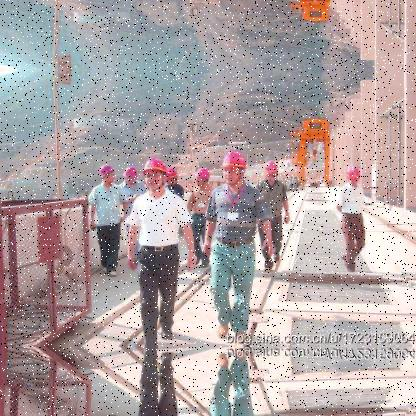Helmet: (214, 148, 250, 188), (134, 156, 168, 192), (342, 161, 372, 198), (258, 157, 284, 185), (114, 160, 139, 188), (190, 163, 212, 190), (95, 163, 119, 186), (163, 164, 181, 188)
